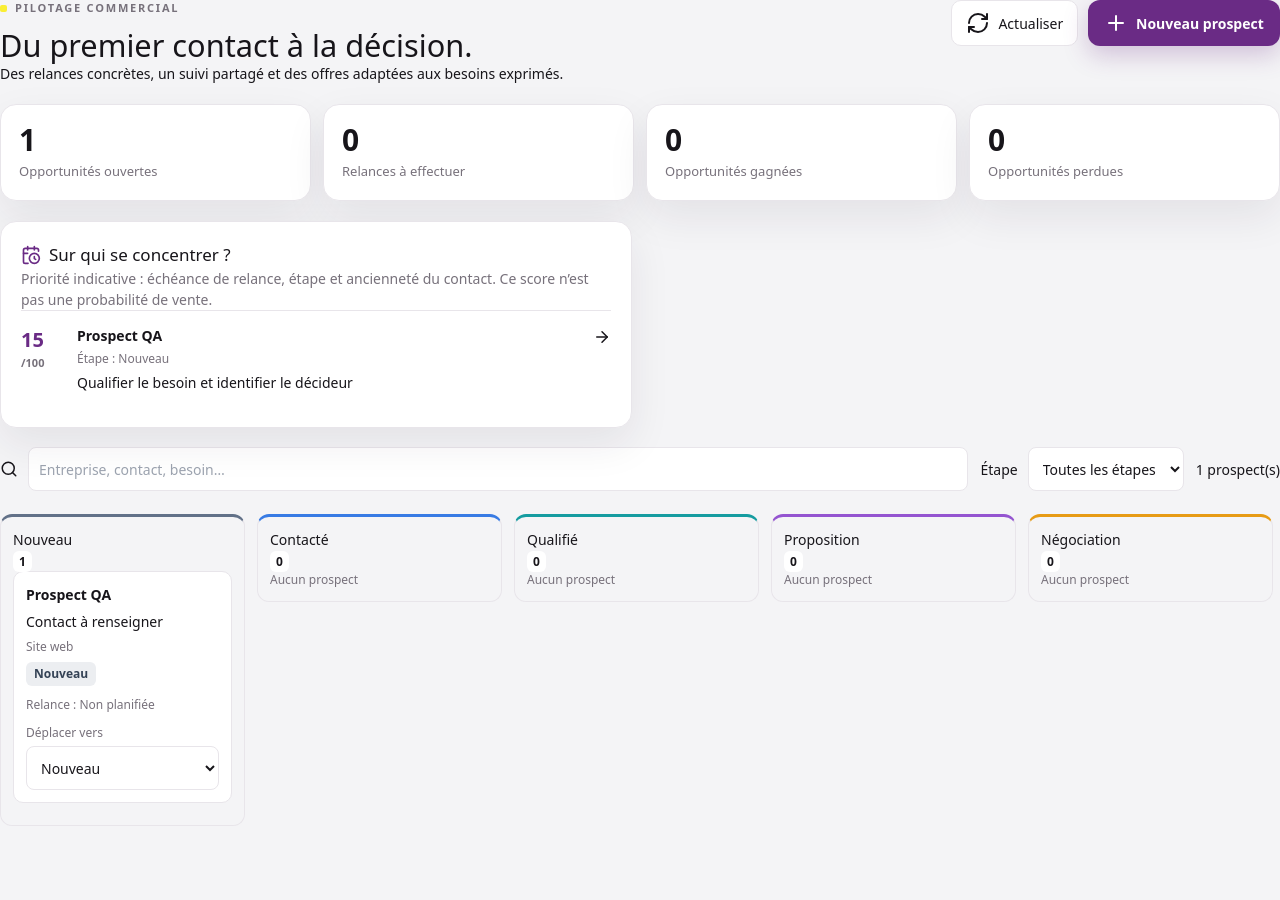
Test case: parcours commercial et droits › crée un prospect avec une relance et sans consentement inventé
Click the button "Nouveau prospect". click: (1184, 23)
box: x1=1088 y1=0 x2=1279 y2=46
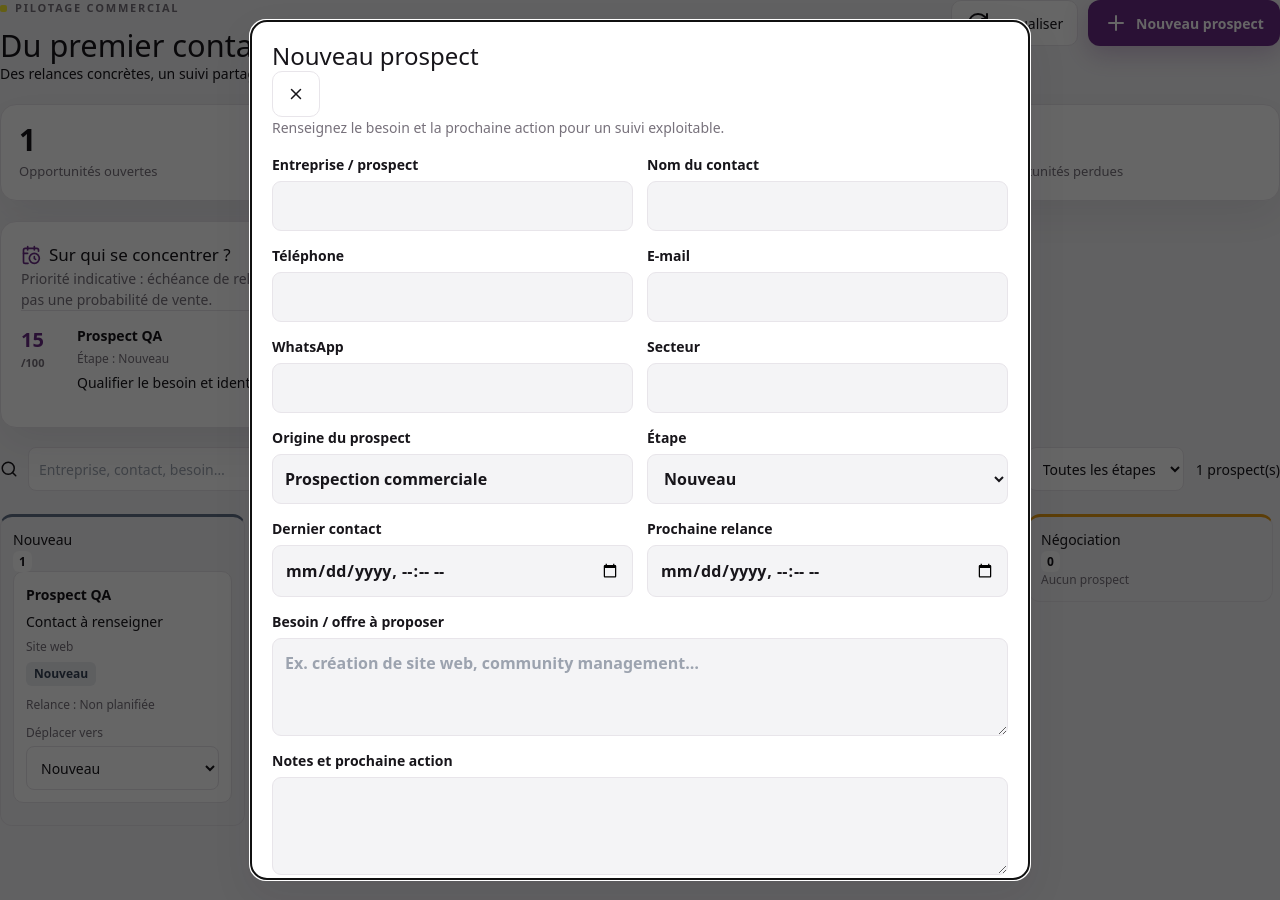
Type "Créé" into the field labelled "Entreprise / prospect". click: (452, 206)
box: x1=272 y1=181 x2=633 y2=231
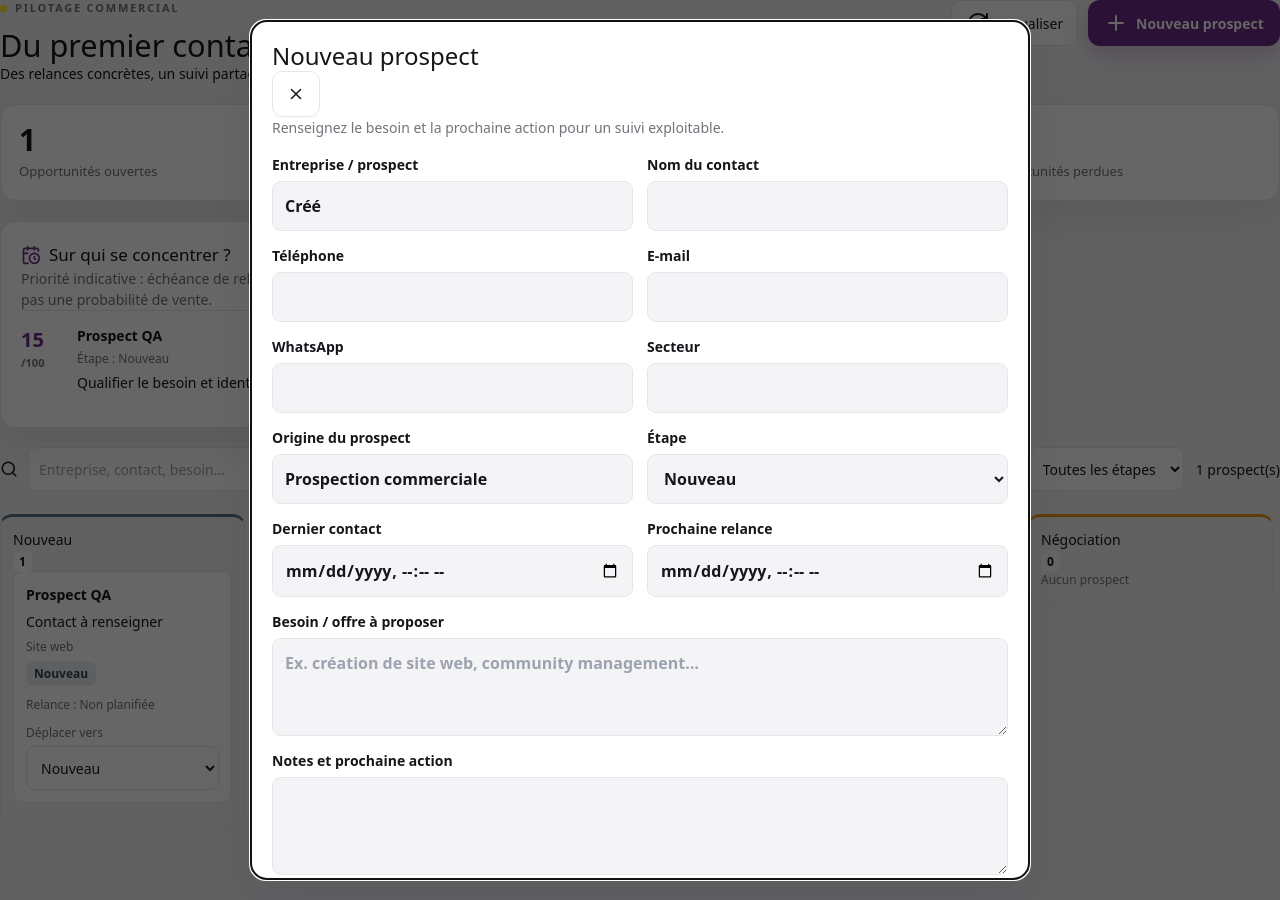
Type "2026-10-15T10:30" into the field labelled "Prochaine relance". click: (828, 571)
box: x1=647 y1=545 x2=1008 y2=597
(page scrolled)
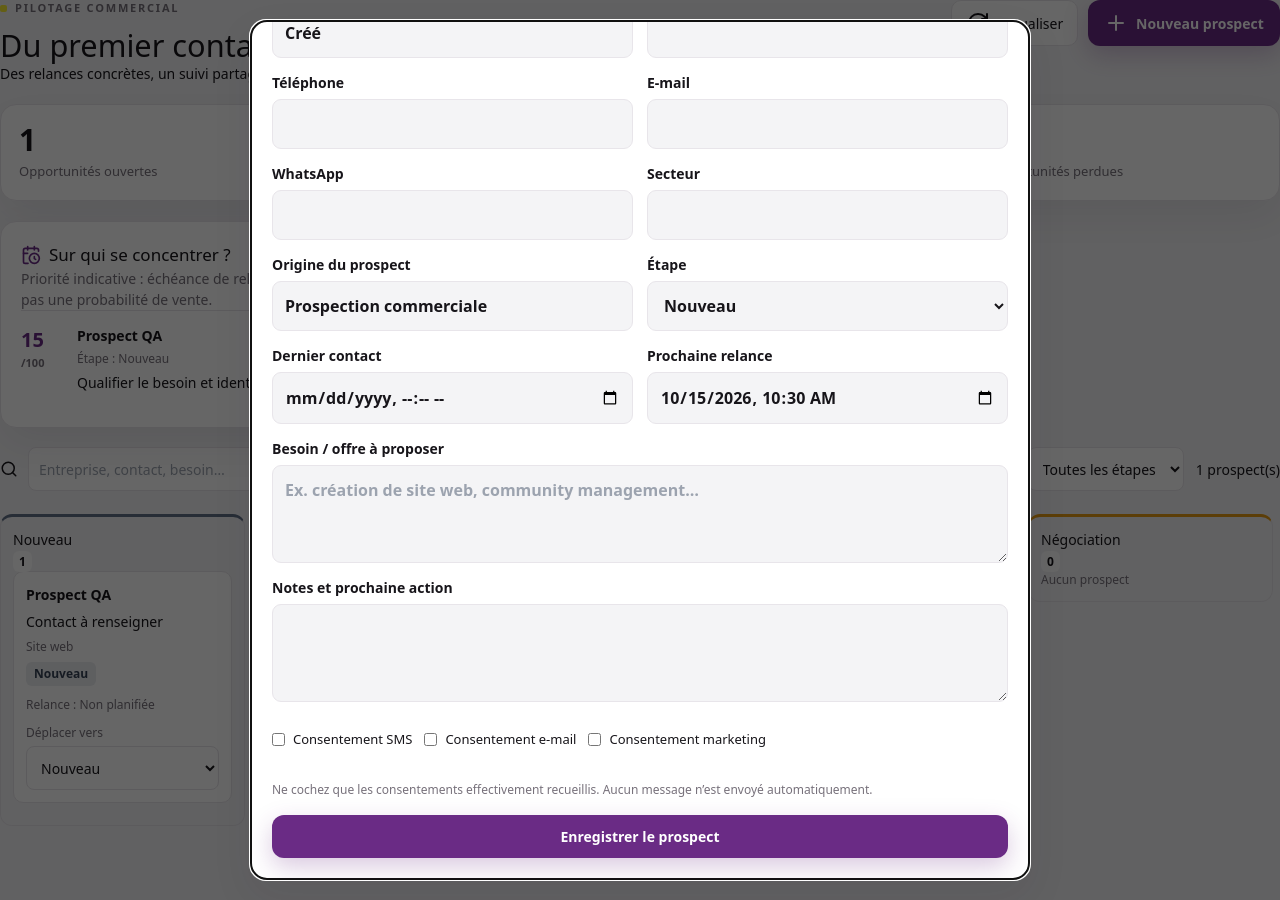
Click the button "Enregistrer le prospect". click: (640, 836)
box: x1=272 y1=815 x2=1008 y2=858
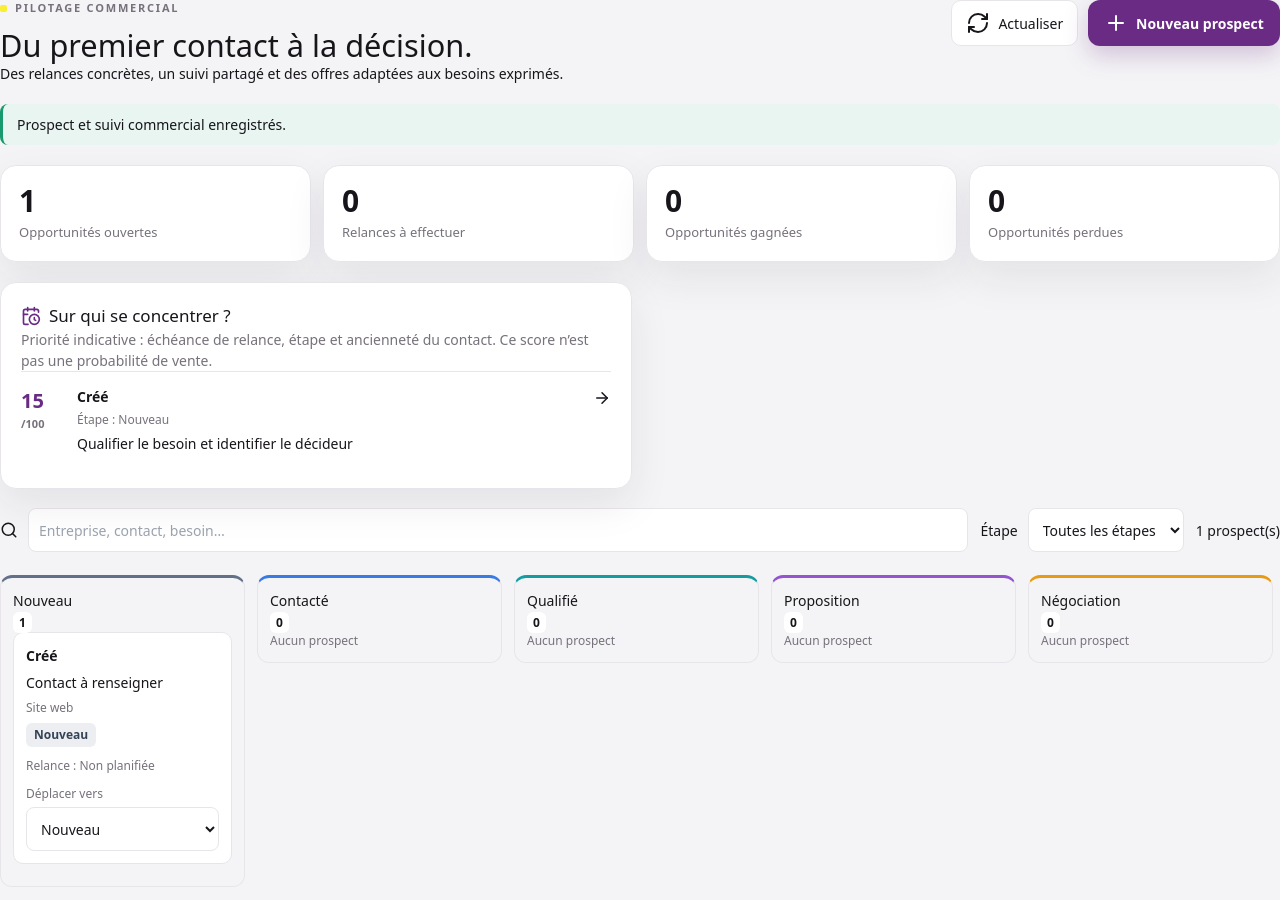
Check: the text "Prospect et suivi commercial enregistrés." is shown, box x1=0 y1=104 x2=1279 y2=145
Check: the dialog is gone
